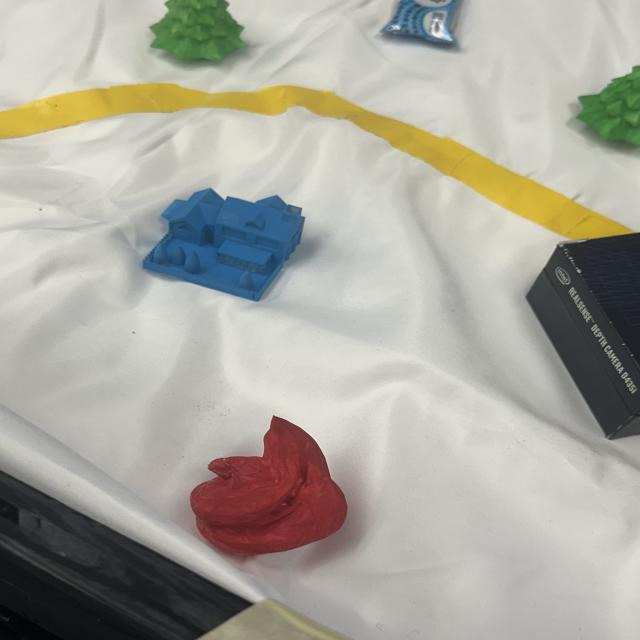fire: (187, 413, 350, 558)
house: (138, 185, 309, 303)
tree: (145, 0, 250, 64), (582, 65, 640, 152)
